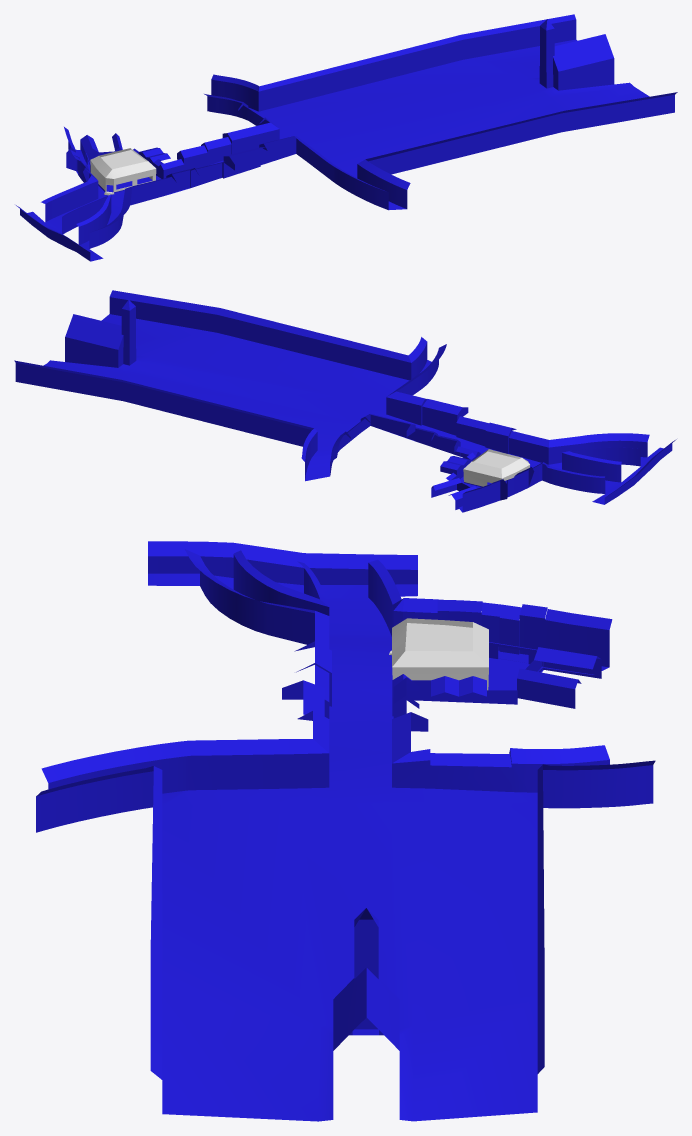
File: MapRenome.fbx
3 views of the same model, one above another, from view 1: azimuth 30°, elevation 25°; view 2: azimuth 150°, elevation 25°; view 3: azimuth 270°, elevation 25° (orthographic). The views are drawn at different scales.
Visible parts, largest first — view 1: Plane, Plane.010, Plane.001, Plane.006; view 2: Plane, Plane.010, Plane.006, Plane.001; view 3: Plane, Plane.010, Plane.006, Plane.001, Plane.003.
Part boxes in pixels (x1,y1,x2,y2): Plane: (16, 14, 677, 261); Plane.010: (90, 148, 155, 178); Plane.001: (90, 150, 156, 192); Plane.006: (80, 133, 122, 161); Plane: (14, 290, 676, 512); Plane.010: (463, 449, 529, 478); Plane.006: (431, 478, 476, 509); Plane.001: (463, 451, 529, 486); Plane: (36, 541, 655, 1121); Plane.010: (392, 618, 488, 667); Plane.006: (517, 647, 601, 708); Plane.001: (392, 623, 488, 690); Plane.003: (488, 658, 543, 690).
Size of the model in its own units: 25221 by 3321 by 11969.
